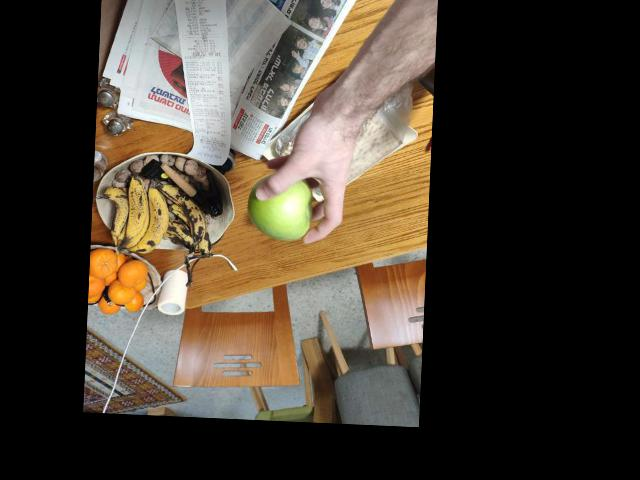apple: (249, 166, 314, 245)
